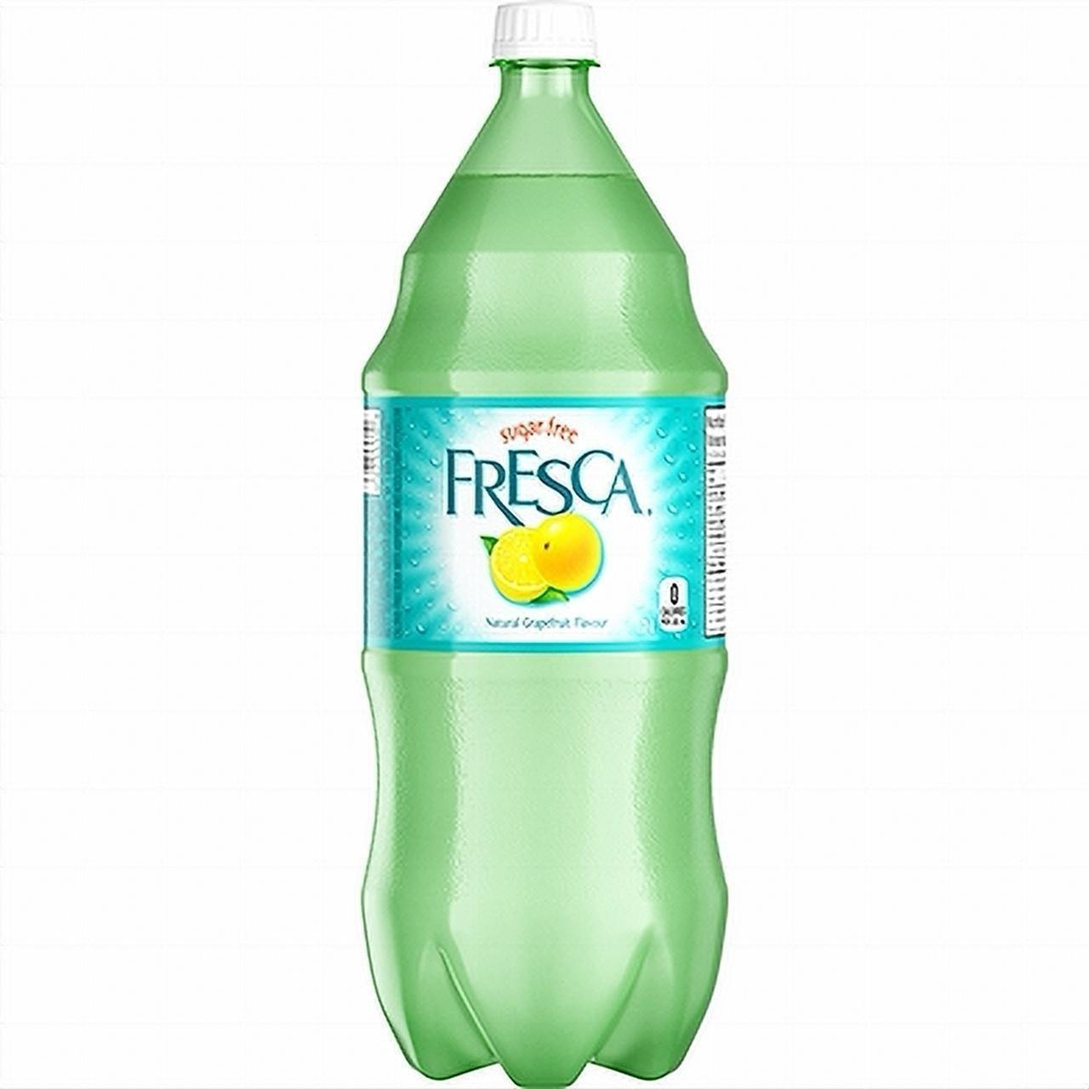bottle-plastic: (349, 0, 739, 1088)
